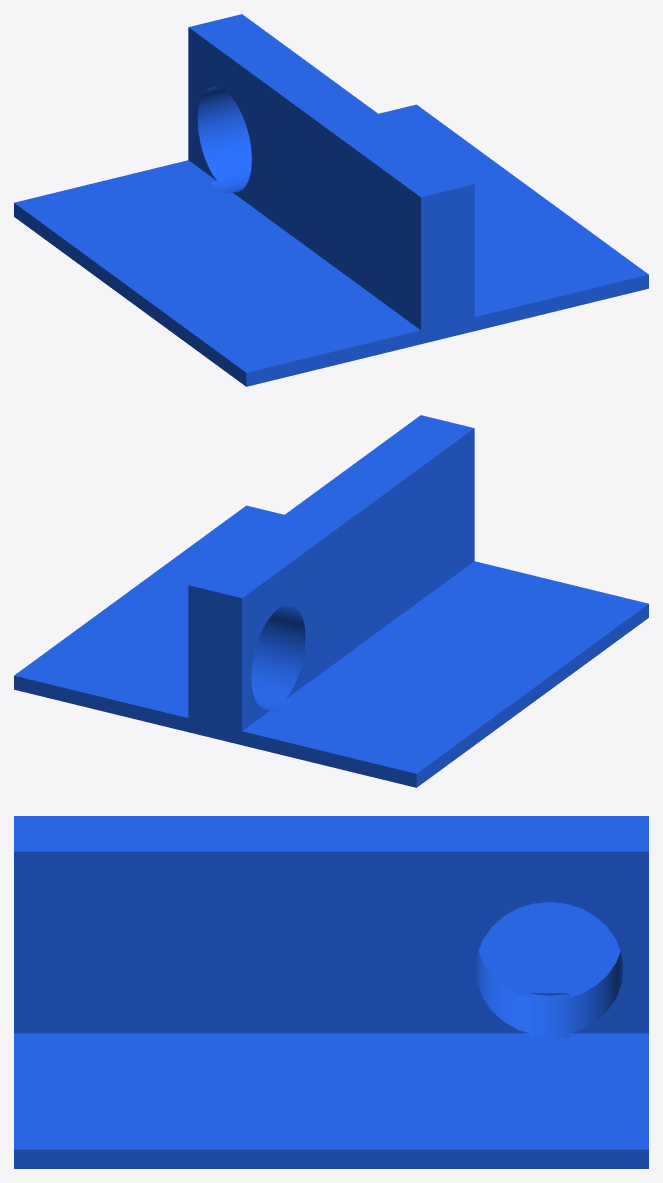
Rendered from Hola3.fbx.
The picture shows the model from 3 angles, top to bottom: view 1: azimuth 30°, elevation 25°; view 2: azimuth 150°, elevation 25°; view 3: azimuth 270°, elevation 25°; orthographic projection. The views are drawn at different scales.
Visible parts, largest first — view 1: Box001; view 2: Box001; view 3: Box001.
Boxes of the visible parts, box(x1,y1,x2,y2) form: Box001: box(14, 14, 648, 386); Box001: box(14, 415, 648, 787); Box001: box(14, 816, 648, 1168).
Size of the model in its own units: 236 by 82.44 by 236.
